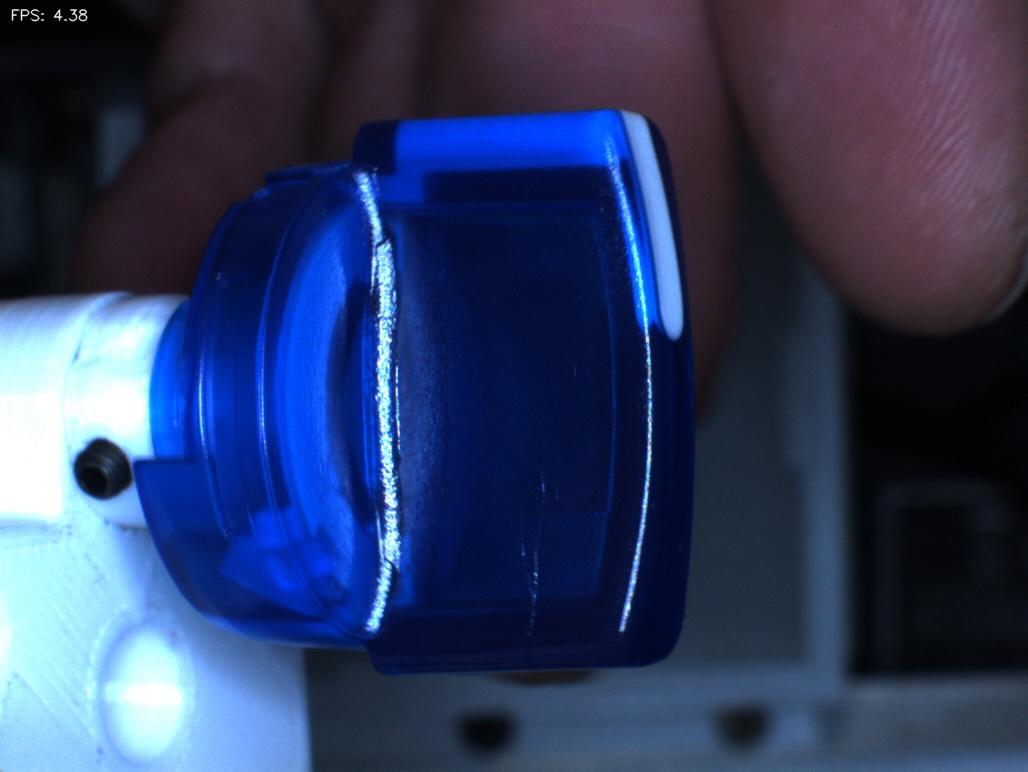Givrage: (470, 428, 606, 660)
